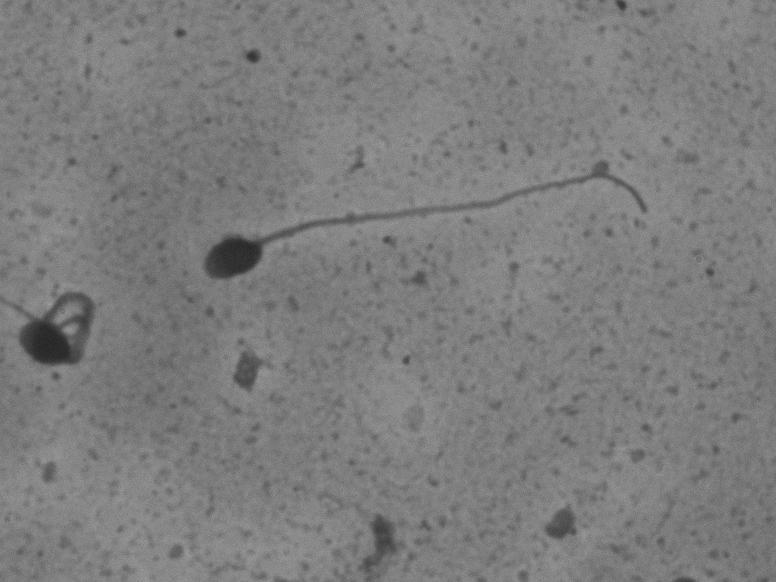Abnormal: (168, 117, 701, 322)
